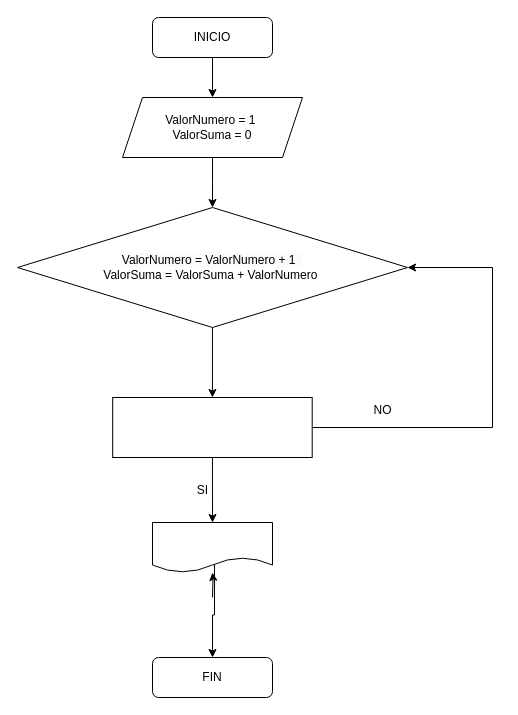
This 518x715 diagram has some shape labels left out. The shapes that lost their labels are listed below. From the top down, each one's box as (x1, y1, x2, y2) in pixels, then its label:
(112, 396, 312, 458): ValorNumero = 10
(152, 522, 272, 572): ValorSuma
